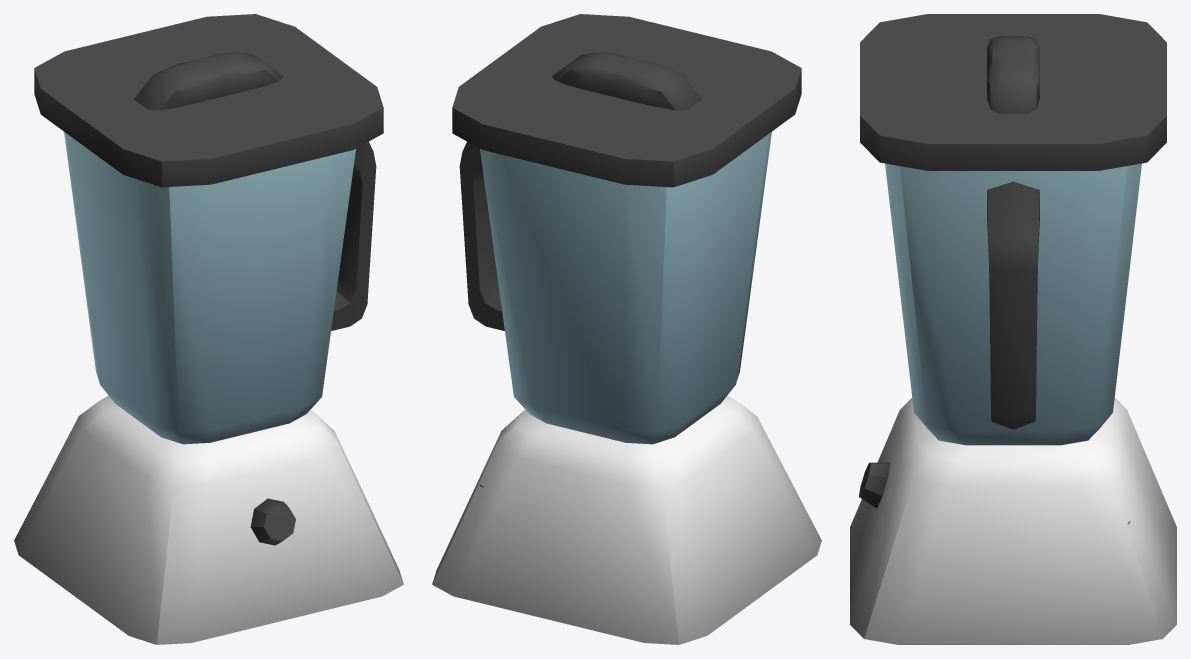
The model's file is Blender.fbx.
3 views of the same model, side by side, from view 1: azimuth 30°, elevation 25°; view 2: azimuth 150°, elevation 25°; view 3: azimuth 270°, elevation 25° (orthographic). The views are drawn at different scales.
Visible parts, largest first — view 1: Blender; view 2: Blender; view 3: Blender.
Boxes of the visible parts, x1,y1,x2,y2 form: Blender: (14,14,403,644); Blender: (432,14,821,644); Blender: (850,14,1176,644).
Bounding box in the file's own units: 0.4029 × 0.6483 × 0.3686.
Materials: 1 (1 with a texture image).
